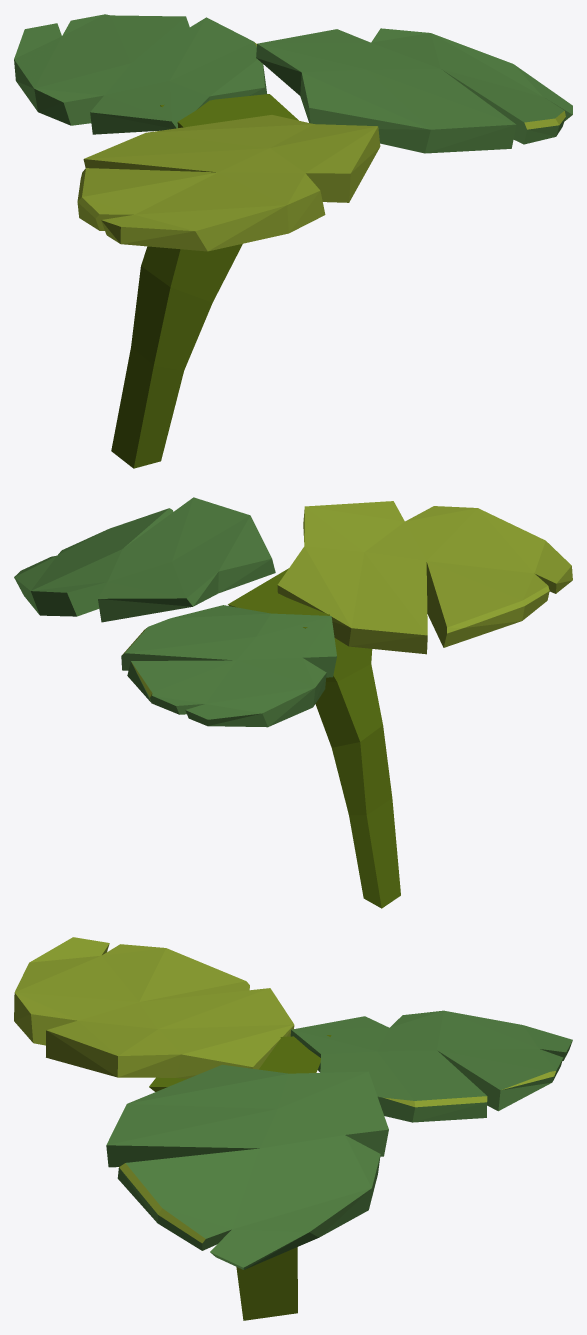
Rendered from EA_M_Env_Leaf_05a.fbx.
3 views of the same model, one above another, from view 1: azimuth 30°, elevation 25°; view 2: azimuth 150°, elevation 25°; view 3: azimuth 270°, elevation 25° (orthographic). The views are drawn at different scales.
Visible parts, largest first — view 1: EA_M_Env_Leaf_05a_LOD0; view 2: EA_M_Env_Leaf_05a_LOD0; view 3: EA_M_Env_Leaf_05a_LOD0.
Part boxes in pixels (x1=…): EA_M_Env_Leaf_05a_LOD0: x1=14, y1=14, x2=572, y2=468; EA_M_Env_Leaf_05a_LOD0: x1=14, y1=497, x2=572, y2=908; EA_M_Env_Leaf_05a_LOD0: x1=14, y1=937, x2=572, y2=1320.
Size of what is drawn, in the model's own units: 0.6747 by 0.4165 by 0.616.
